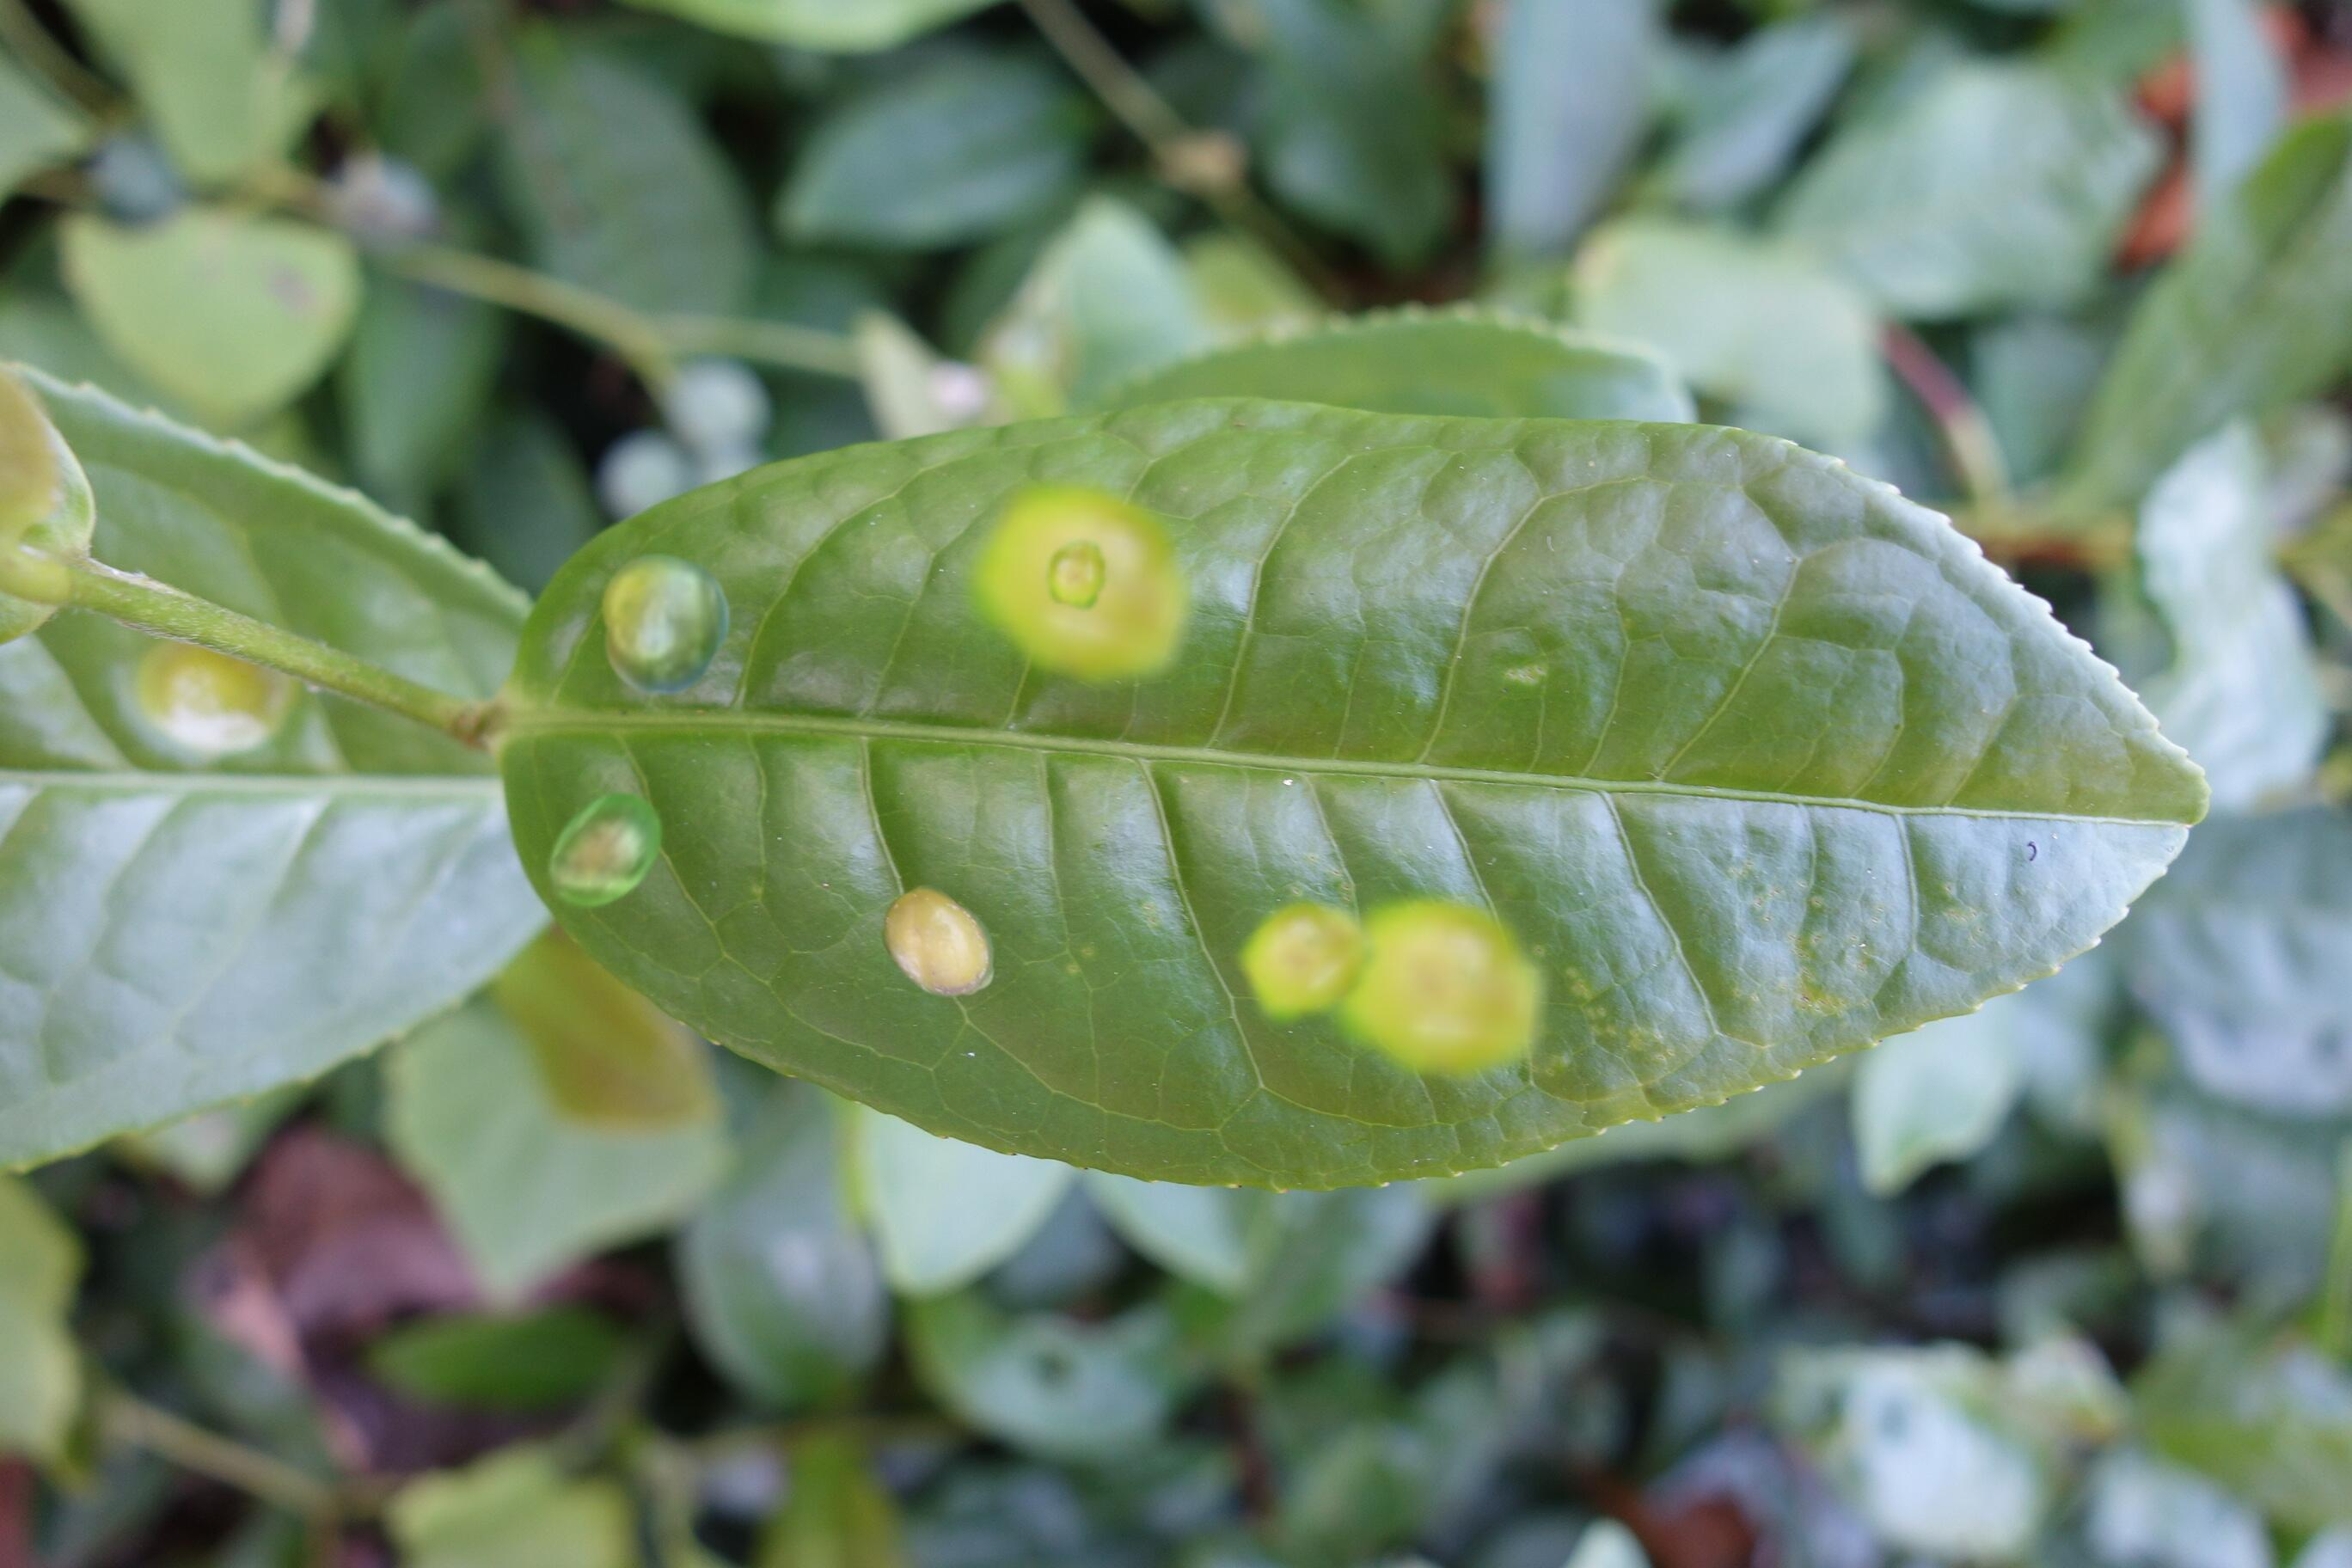chabing_high: (509, 392, 2210, 1200)
chabing_low: (0, 369, 551, 1167)
